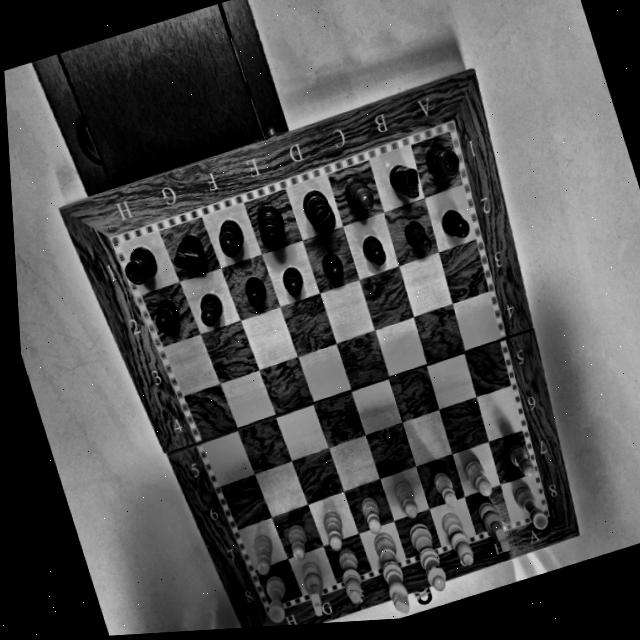black-bishop: (203, 203, 254, 265), (333, 164, 381, 220)
black-king: (291, 174, 341, 240)
black-knight: (377, 148, 428, 212), (162, 220, 209, 275)
black-pawn: (397, 209, 441, 269), (144, 287, 189, 341), (234, 266, 278, 319), (434, 196, 476, 251), (311, 243, 351, 291), (190, 282, 227, 332), (275, 254, 309, 304), (355, 228, 393, 270)
black-queen: (246, 195, 296, 254)
black-rook: (113, 236, 166, 299), (415, 132, 467, 190)
white-bishop: (325, 541, 376, 614), (438, 504, 479, 577)
white-king: (368, 528, 417, 618)
white-knight: (293, 554, 335, 623), (476, 495, 514, 559)
white-pawn: (241, 529, 282, 580), (502, 433, 539, 483), (424, 461, 459, 511), (389, 474, 422, 525), (278, 515, 313, 563), (353, 488, 387, 536), (315, 503, 347, 554), (461, 456, 494, 499)
white-queen: (408, 519, 450, 598)
white-rook: (507, 475, 553, 538), (253, 569, 295, 627)
